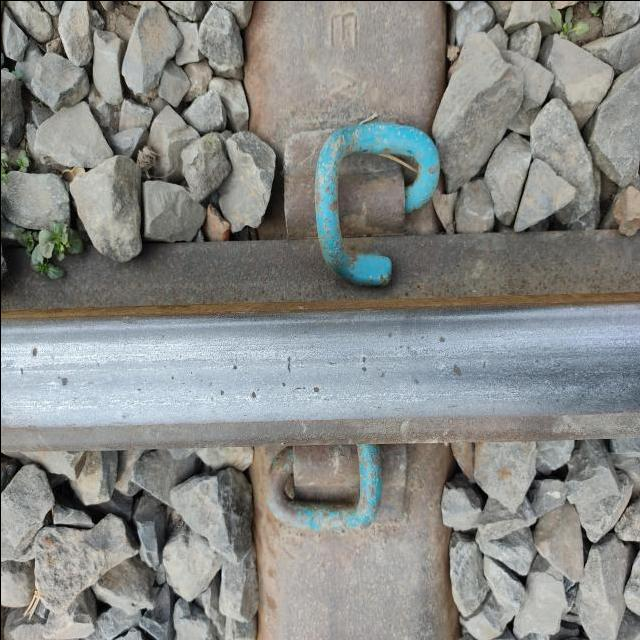squats_high: (16, 346, 70, 388), (279, 353, 320, 395), (218, 362, 258, 404), (358, 352, 368, 378), (451, 362, 464, 378), (435, 332, 447, 347), (411, 375, 421, 387)
